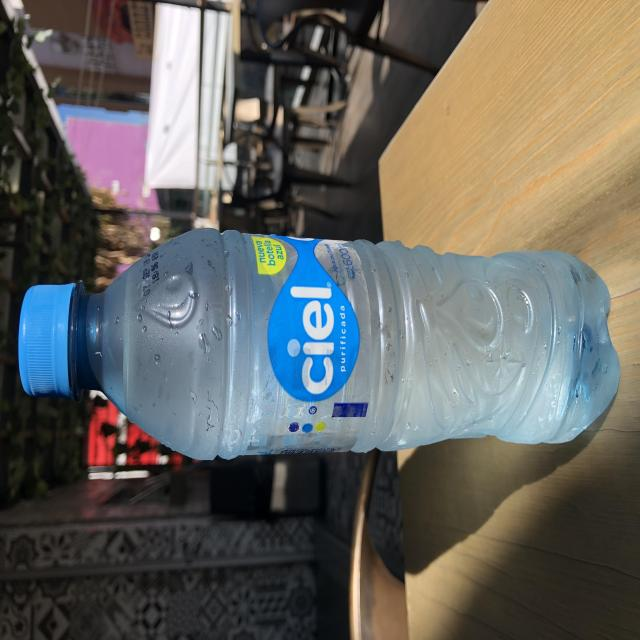bottle: (17, 220, 624, 466)
